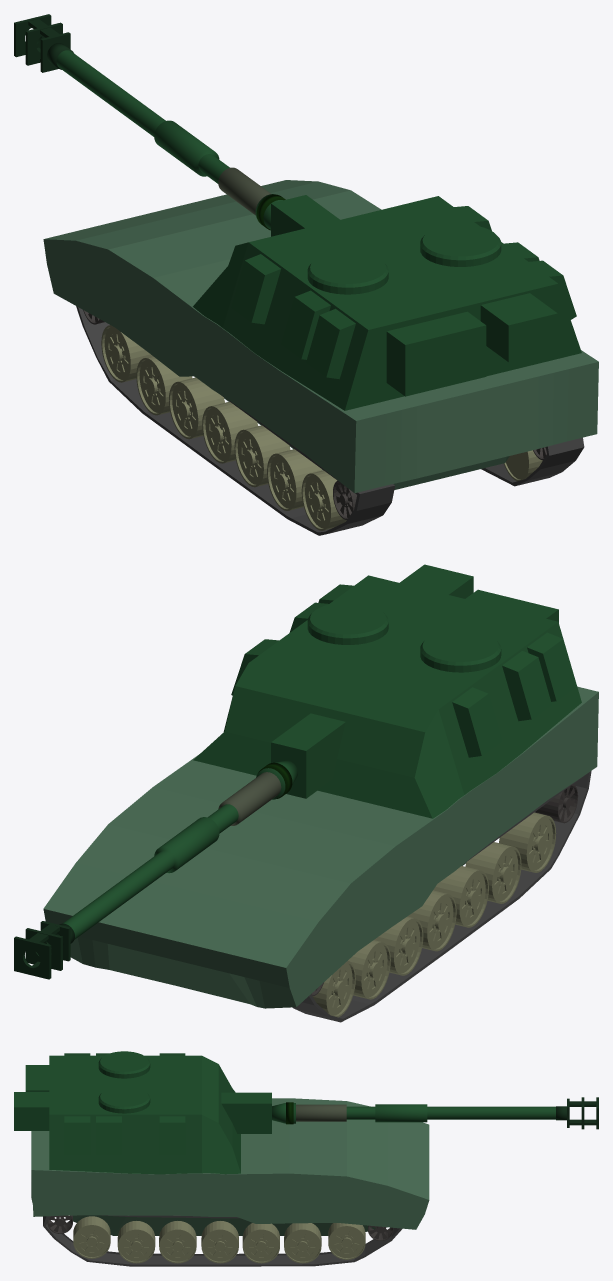
The model's file is krab.glb.
3 renders of one model, top to bottom at view 1: azimuth 30°, elevation 25°; view 2: azimuth 150°, elevation 25°; view 3: azimuth 270°, elevation 25°, orthographic. The views are drawn at different scales.
Visible parts, largest first — view 1: Cube, Cube.001, Cube.017, Cube.009, Cube.016, Cylinder, Cylinder.005, Cylinder.006, Cube.013, Cube.015, Cylinder.022, Cylinder.019 (+11 smaller); view 2: Cube, Cube.001, Cube.009, Cube.002, Cylinder, Cylinder.005, Cylinder.006, Cube.014, Cube.015, Cylinder.018, Cylinder.021, Cylinder.019 (+12 smaller); view 3: Cube, Cube.001, Cube.008, Cylinder, Cube.002, Cube.016, Cylinder.007, Cylinder.008, Cylinder.009, Cylinder.011, Cylinder.010, Cylinder.012 (+12 smaller).
Part boxes in pixels (x1,y1,x2,y2): Cube: (43, 180, 598, 493); Cube.001: (193, 196, 581, 410); Cube.017: (386, 311, 486, 396); Cube.009: (76, 306, 394, 535); Cube.016: (480, 293, 557, 362); Cylinder: (56, 50, 229, 183); Cylinder.005: (420, 224, 501, 266); Cylinder.006: (307, 251, 388, 294); Cube.013: (306, 308, 355, 379); Cube.015: (231, 254, 280, 324); Cylinder.022: (169, 377, 224, 439); Cylinder.019: (234, 425, 290, 487); Cube: (43, 686, 598, 1008); Cube.001: (193, 575, 581, 818); Cube.009: (292, 771, 591, 1022); Cube.002: (271, 713, 345, 798); Cylinder: (63, 804, 238, 939); Cylinder.005: (307, 602, 388, 644); Cylinder.006: (420, 629, 501, 672); Cube.014: (502, 651, 551, 721); Cube.015: (452, 687, 501, 757); Cylinder.018: (499, 812, 556, 872); Cylinder.021: (465, 842, 521, 903); Cylinder.019: (433, 866, 488, 927); Cube: (31, 1098, 429, 1235); Cube.001: (49, 1055, 240, 1174); Cube.008: (43, 1215, 402, 1266); Cylinder: (346, 1106, 555, 1119); Cube.002: (221, 1092, 271, 1133); Cube.016: (14, 1092, 49, 1130); Cylinder.007: (117, 1221, 155, 1263); Cylinder.008: (73, 1216, 110, 1258); Cylinder.009: (159, 1221, 196, 1263); Cylinder.011: (201, 1221, 238, 1263); Cylinder.010: (284, 1223, 321, 1263); Cylinder.012: (242, 1223, 279, 1263).
Size of the model in its own units: 1.42 by 1.29 by 4.52.
